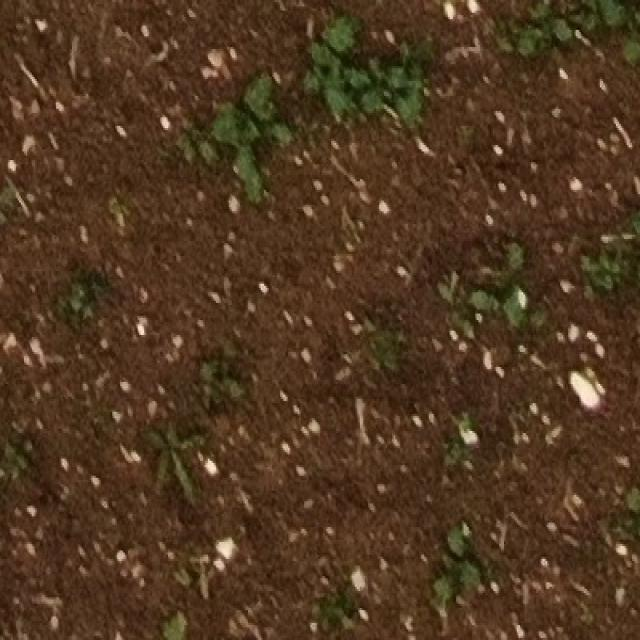cirse: (150, 411, 210, 497), (139, 397, 198, 481), (152, 426, 208, 514)
